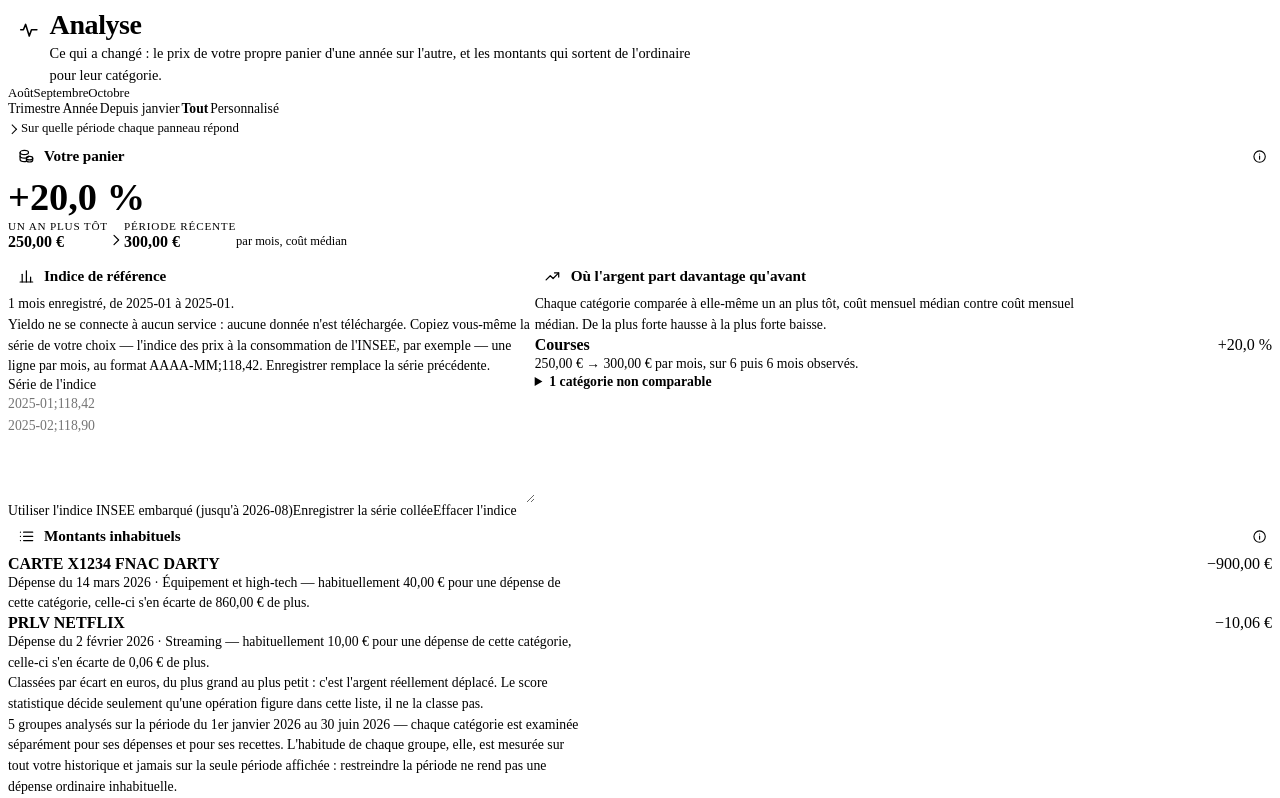
Scenario: AnalysisPage — inflation › tells a stored index that misses a window apart from no index at all
Click the button named "Comment ce panier est mesuré" at (1260, 156), box [1248, 144, 1272, 168]
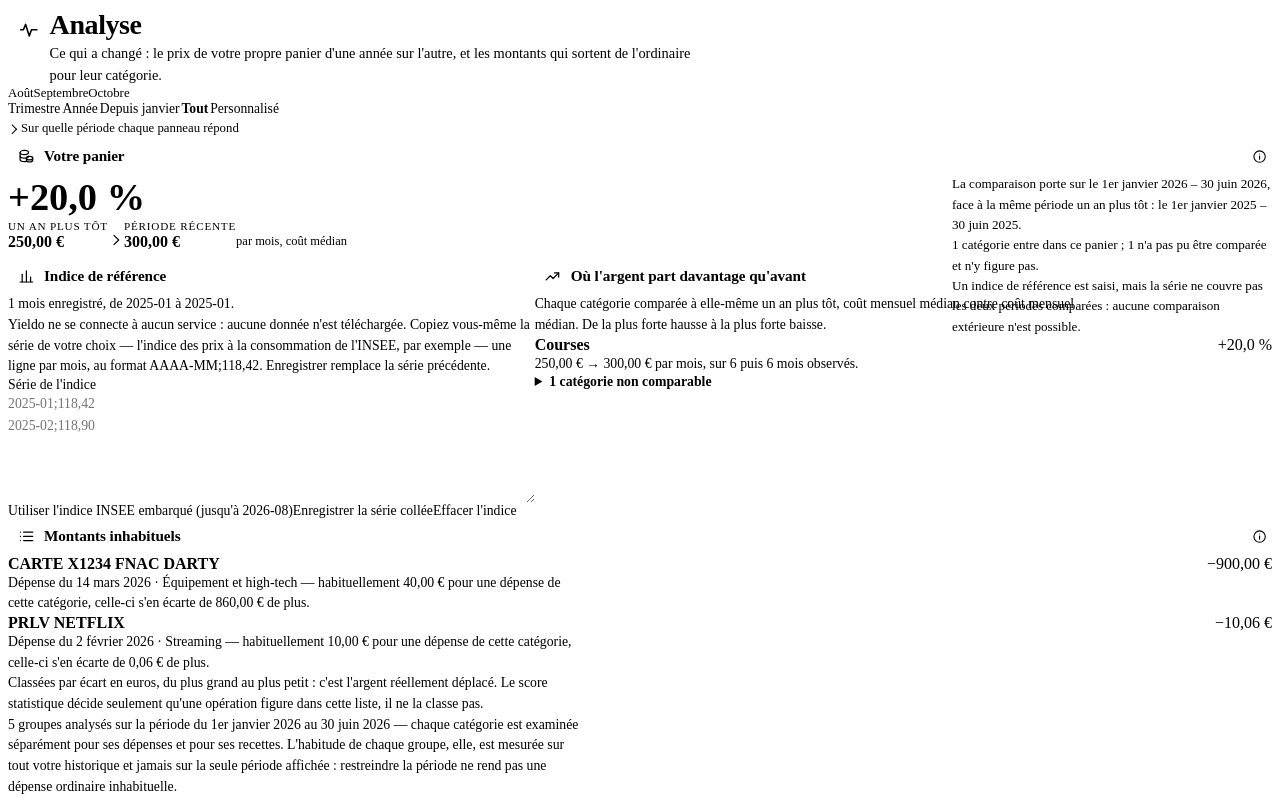
Expected: the tooltip shows "ne couvre pas les deux périodes comparées", [952, 278, 1263, 334]
